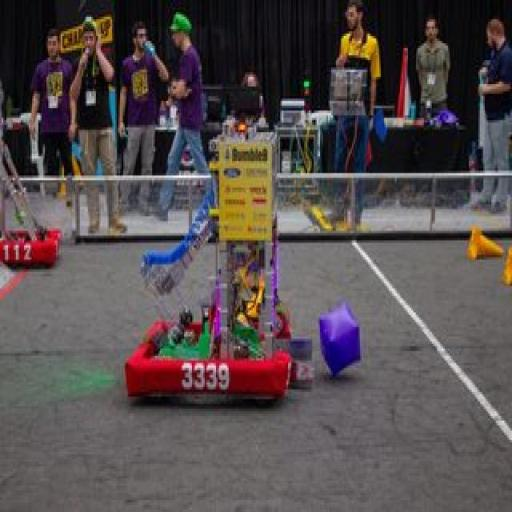robot: (108, 108, 316, 402), (0, 140, 66, 270)
